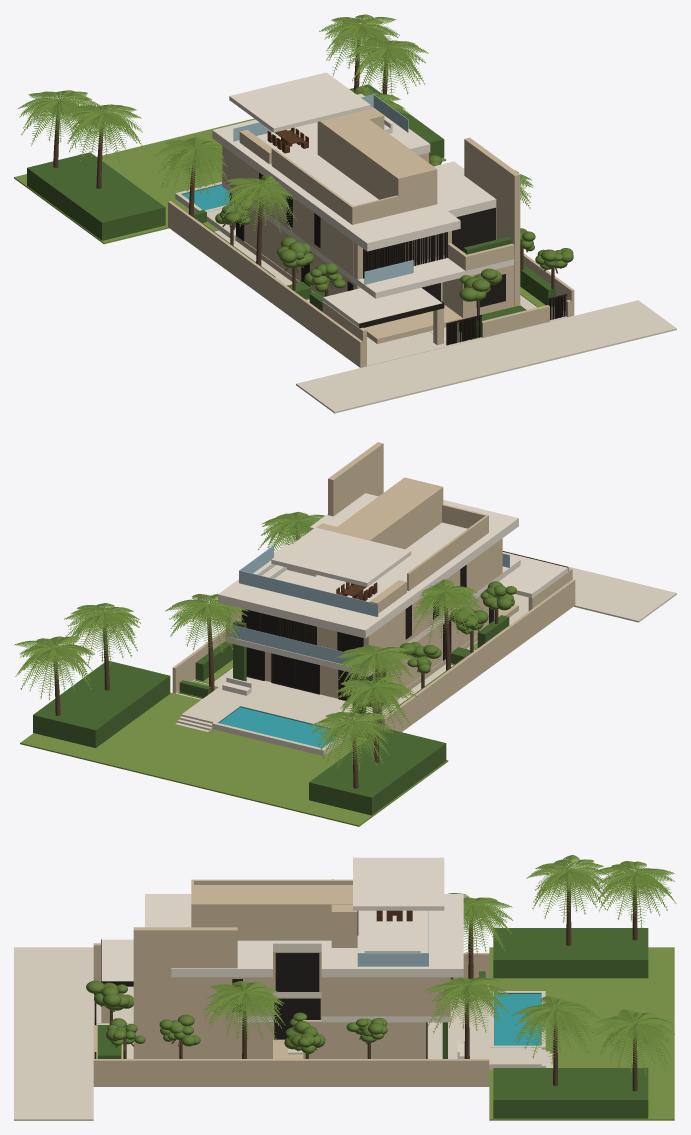
Rendered from villa_v3.glb.
The picture shows the model from 3 angles, top to bottom: view 1: azimuth 30°, elevation 25°; view 2: azimuth 150°, elevation 25°; view 3: azimuth 270°, elevation 25°; orthographic projection. The views are drawn at different scales.
Visible parts, largest first — view 1: GROUND_street_verge, RF_core, HEDGE_context_rear_left, WALL_side_left, RF_canopy, CONTEXT_lawn_beyond_plot (NOT PLOT), ROOF_f, STONE_FIN (render-sourced, not on plan), ROOF_r, CONTEXT_palm_1_fronds, CONTEXT_palm_0_fronds, CARPORT_canopy (render-sourced, not on plan) (+27 smaller); view 2: CONTEXT_lawn_beyond_plot (NOT PLOT), HEDGE_context_rear_right, HEDGE_context_rear_left, ROOF_r, WALL_side_left, RF_canopy, RF_core, GROUND_street_verge, DECK_rear_strip, CONTEXT_palm_2_fronds, CONTEXT_palm_3_fronds, CONTEXT_palm_1_fronds (+28 smaller); view 3: GROUND_street_verge, CONTEXT_lawn_beyond_plot (NOT PLOT), STONE_FIN (render-sourced, not on plan), WALL_side_right, HEDGE_context_rear_left, HEDGE_context_rear_right, RF_core, ROOF_r, RF_canopy, FF_rear, CONTEXT_palm_3_fronds, TREE_9_palm_fronds (+26 smaller).
Part boxes in pixels (x1,y1,x2,y2): GROUND_street_verge: (296, 300, 676, 413); RF_core: (317, 112, 437, 213); HEDGE_context_rear_left: (27, 152, 165, 240); WALL_side_left: (168, 201, 362, 367); RF_canopy: (229, 72, 370, 132); CONTEXT_lawn_beyond_plot (NOT PLOT): (14, 118, 446, 244); ROOF_f: (305, 185, 460, 251); STONE_FIN (render-sourced, not on plan): (464, 137, 520, 305); ROOF_r: (212, 93, 430, 186); CONTEXT_palm_1_fronds: (347, 37, 428, 95); CONTEXT_palm_0_fronds: (63, 104, 142, 164); CARPORT_canopy (render-sourced, not on plan): (323, 287, 442, 327); CONTEXT_lawn_beyond_plot (NOT PLOT): (20, 692, 448, 826); HEDGE_context_rear_right: (33, 661, 170, 748); HEDGE_context_rear_left: (309, 728, 446, 815); ROOF_r: (218, 544, 433, 638); WALL_side_left: (382, 579, 575, 732); RF_canopy: (271, 527, 411, 586); RF_core: (331, 477, 443, 549); GROUND_street_verge: (302, 536, 676, 622); DECK_rear_strip: (207, 677, 372, 726); CONTEXT_palm_2_fronds: (308, 712, 395, 770); CONTEXT_palm_3_fronds: (14, 636, 94, 700); CONTEXT_palm_1_fronds: (64, 603, 140, 664); GROUND_street_verge: (14, 947, 93, 1120); CONTEXT_lawn_beyond_plot (NOT PLOT): (489, 947, 674, 1120); STONE_FIN (render-sourced, not on plan): (133, 927, 237, 1058); WALL_side_right: (93, 1059, 489, 1086); HEDGE_context_rear_left: (493, 928, 648, 978); HEDGE_context_rear_right: (493, 1068, 648, 1118); RF_core: (191, 885, 352, 940); ROOF_r: (321, 894, 463, 977); RF_canopy: (353, 857, 444, 910); FF_rear: (321, 977, 426, 1016); CONTEXT_palm_3_fronds: (592, 1009, 674, 1075); TREE_9_palm_fronds: (203, 981, 285, 1040).
Size of what is drawn, in the model's own units: 33.92 by 13.05 by 50.05.
